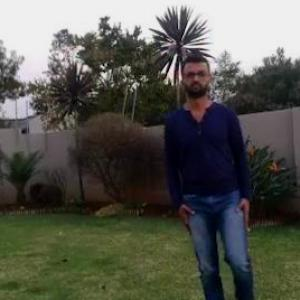follow: (159, 17, 260, 299)
